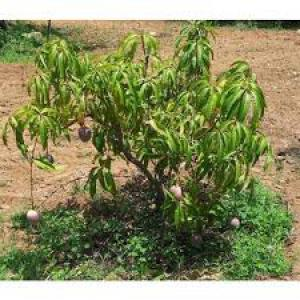Tree: (5, 20, 271, 256)
